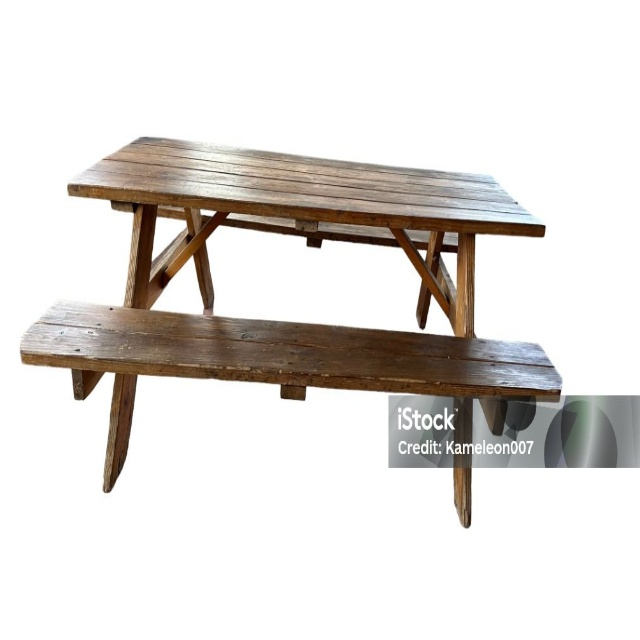obstacle: (20, 135, 562, 527)
